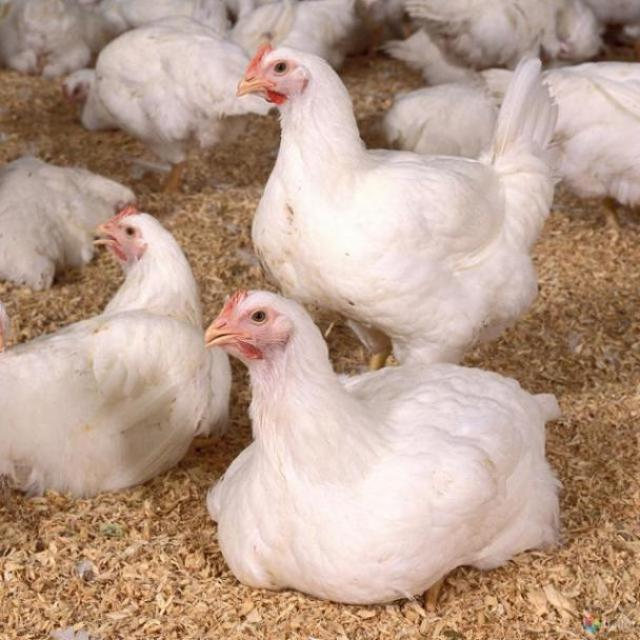Chicken: (216, 293, 562, 594), (238, 48, 576, 280), (64, 211, 202, 400)
